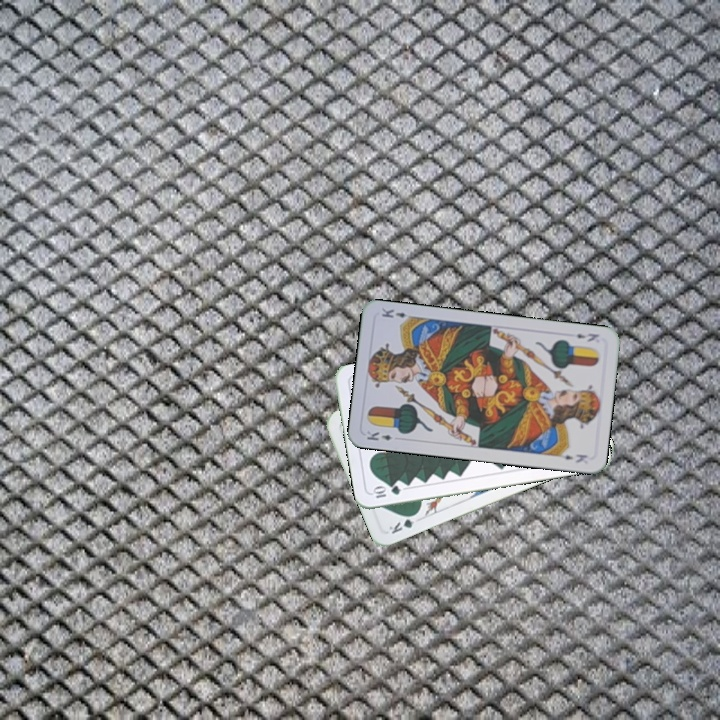EK: (363, 427, 394, 443), (572, 329, 601, 344)
G10: (369, 482, 403, 501)
GK: (385, 509, 421, 537)
